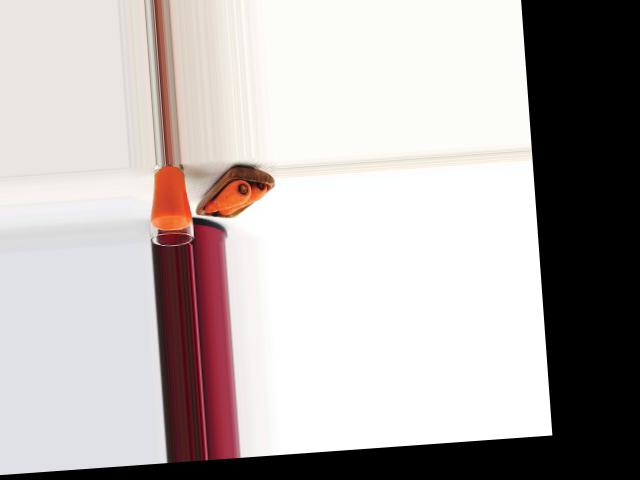carrot: (222, 179, 270, 214)
